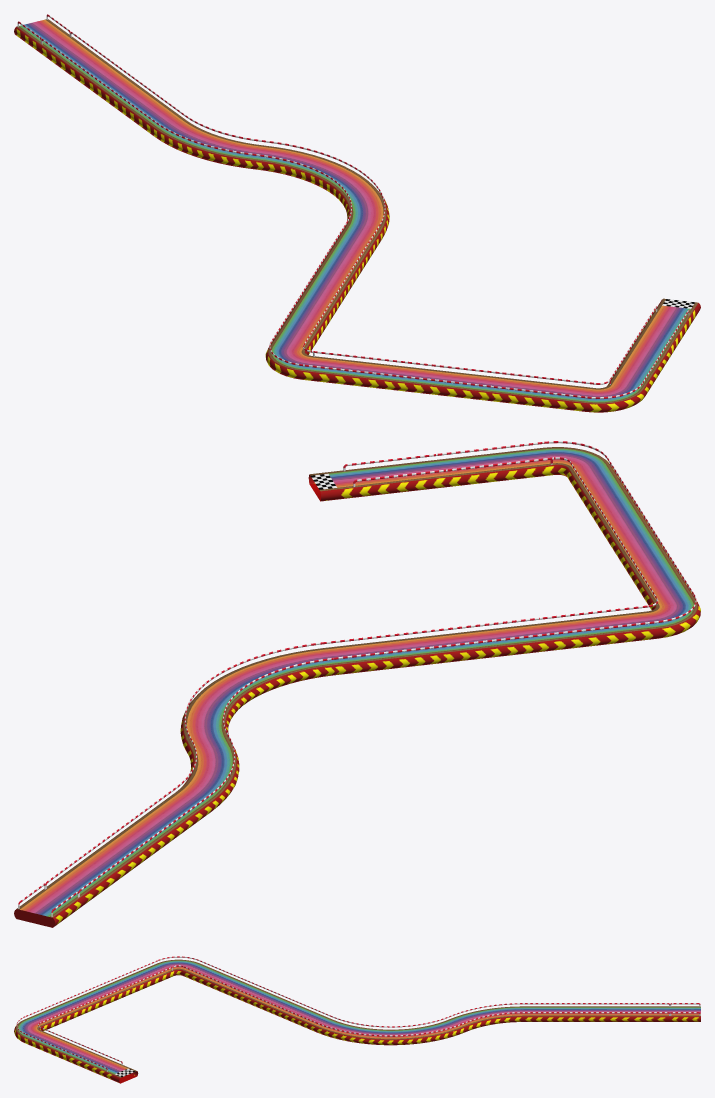
The model's file is map4_mapbonus.fbx.
3 renders of one model, top to bottom at view 1: azimuth 30°, elevation 25°; view 2: azimuth 150°, elevation 25°; view 3: azimuth 270°, elevation 25°, orthographic. The views are drawn at different scales.
Visible parts, largest first — view 1: Terrain_Right_Flat_Bar_5__1_, Terrain_Left_Flat_Bar_3, Terrain_Flat_Bar_2, Terrain_Flat_Bar_1__2_, Terrain_Flat_Bar_1__1_, Terrain_Flat_Bar_1, Terrain_Flat_BarStart_1, Terrain_Flat_Bar_Bonus_4_map_20, Terrain_Flat_Bar_Bonus_4_map_20__1_, Terrain_Flat_BarEnd_2, Terrain_Flat_Bar_1__3_, Terrain_Flat_Bar_12 (+3 smaller); view 2: Terrain_Right_Flat_Bar_5__1_, Terrain_Flat_Bar_2, Terrain_Flat_BarEnd_2, Terrain_Flat_Bar_12, Terrain_Flat_Bar_Bonus_4_map_20, Terrain_Flat_Bar_Bonus_4_map_20__1_, Terrain_Flat_Bar_1__3_, Terrain_Left_Flat_Bar_3, Terrain_Flat_BarStart_1, Terrain_Flat_Bar_1__1_, Terrain_Flat_Bar_1__2_, Terrain_Flat_Bar_1 (+3 smaller); view 3: Terrain_Right_Flat_Bar_5__1_, Terrain_Flat_Bar_2, Terrain_Left_Flat_Bar_3, Terrain_Flat_BarStart_1, Terrain_Flat_BarEnd_2, Terrain_Flat_Bar_Bonus_4_map_20, Terrain_Flat_Bar_Bonus_4_map_20__1_, Terrain_Flat_Bar_12, Terrain_Flat_Bar_1__1_, Terrain_Flat_Bar_1__3_, Terrain_Flat_Bar_1, Terrain_Flat_Bar_1__2_ (+5 smaller).
Boxes of the visible parts, x1,y1,x2,y2 form: Terrain_Right_Flat_Bar_5__1_: [254, 145, 389, 236]; Terrain_Left_Flat_Bar_3: [152, 120, 263, 169]; Terrain_Flat_Bar_2: [87, 72, 185, 135]; Terrain_Flat_Bar_1__2_: [491, 377, 595, 411]; Terrain_Flat_Bar_1__1_: [396, 366, 500, 401]; Terrain_Flat_Bar_1: [302, 356, 406, 390]; Terrain_Flat_BarStart_1: [38, 37, 120, 87]; Terrain_Flat_Bar_Bonus_4_map_20: [319, 227, 383, 276]; Terrain_Flat_Bar_Bonus_4_map_20__1_: [294, 267, 358, 316]; Terrain_Flat_BarEnd_2: [633, 305, 696, 354]; Terrain_Flat_Bar_1__3_: [607, 345, 671, 394]; Terrain_Flat_Bar_12: [270, 307, 332, 354]; Terrain_Right_Flat_Bar_5__1_: [180, 648, 334, 752]; Terrain_Flat_Bar_2: [100, 793, 213, 864]; Terrain_Flat_BarEnd_2: [328, 460, 446, 499]; Terrain_Flat_Bar_12: [539, 611, 658, 650]; Terrain_Flat_Bar_Bonus_4_map_20: [323, 636, 442, 675]; Terrain_Flat_Bar_Bonus_4_map_20__1_: [431, 623, 550, 662]; Terrain_Flat_Bar_1__3_: [436, 447, 554, 487]; Terrain_Left_Flat_Bar_3: [175, 741, 239, 810]; Terrain_Flat_BarStart_1: [47, 847, 138, 905]; Terrain_Flat_Bar_1__1_: [595, 509, 667, 566]; Terrain_Flat_Bar_1__2_: [566, 464, 639, 521]; Terrain_Flat_Bar_1: [624, 555, 695, 609]; Terrain_Right_Flat_Bar_5__1_: [315, 1019, 466, 1045]; Terrain_Flat_Bar_2: [523, 1006, 606, 1021]; Terrain_Left_Flat_Bar_3: [449, 1006, 523, 1031]; Terrain_Flat_BarStart_1: [607, 1006, 669, 1021]; Terrain_Flat_BarEnd_2: [67, 1049, 129, 1079]; Terrain_Flat_Bar_Bonus_4_map_20: [270, 1001, 332, 1031]; Terrain_Flat_Bar_Bonus_4_map_20__1_: [226, 982, 287, 1012]; Terrain_Flat_Bar_12: [182, 963, 243, 994]; Terrain_Flat_Bar_1__1_: [69, 982, 130, 1012]; Terrain_Flat_Bar_1__3_: [23, 1030, 84, 1061]; Terrain_Flat_Bar_1: [113, 963, 174, 994]; Terrain_Flat_Bar_1__2_: [25, 1001, 86, 1031].
Bounding box in the file's own units: 5422 × 200 × 13167.
6 materials, 5 textured.
